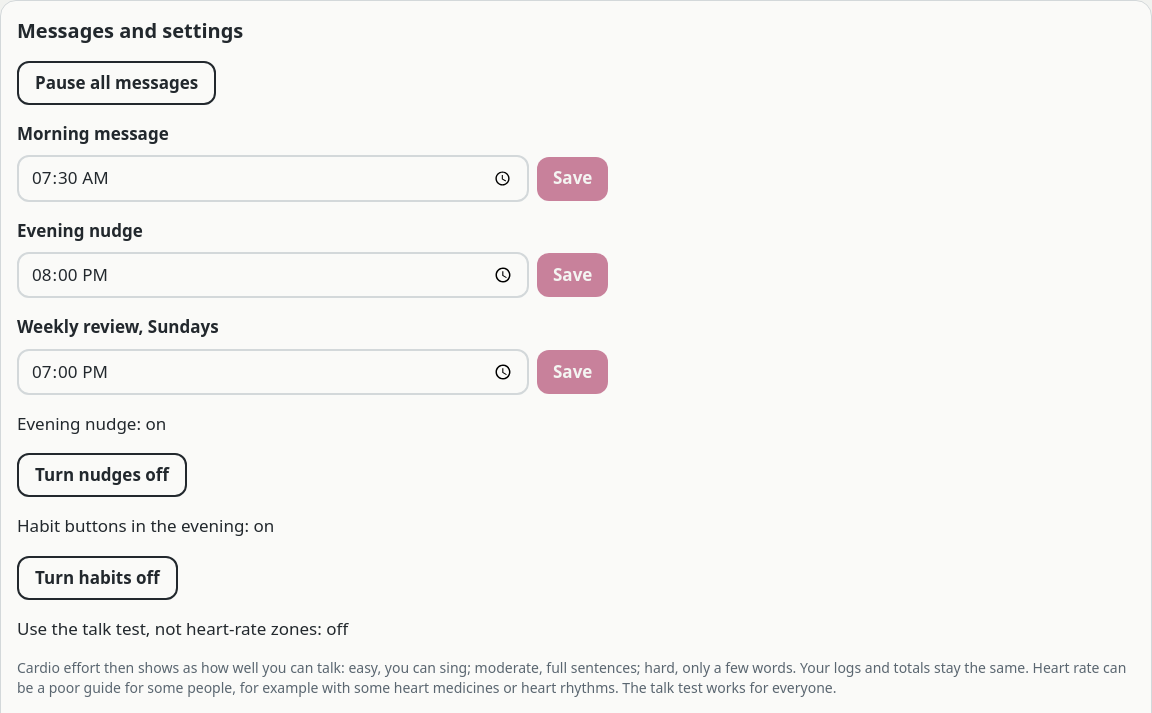
Test case: a new time is saved with its own Save, and says so next to it
Expected: the 1st button "Save" is disabled, [537, 156, 608, 200]
Replace the text in the time field labelled "Morning message" with "06:45". click: coordinates (273, 178)
box: [17, 155, 529, 202]
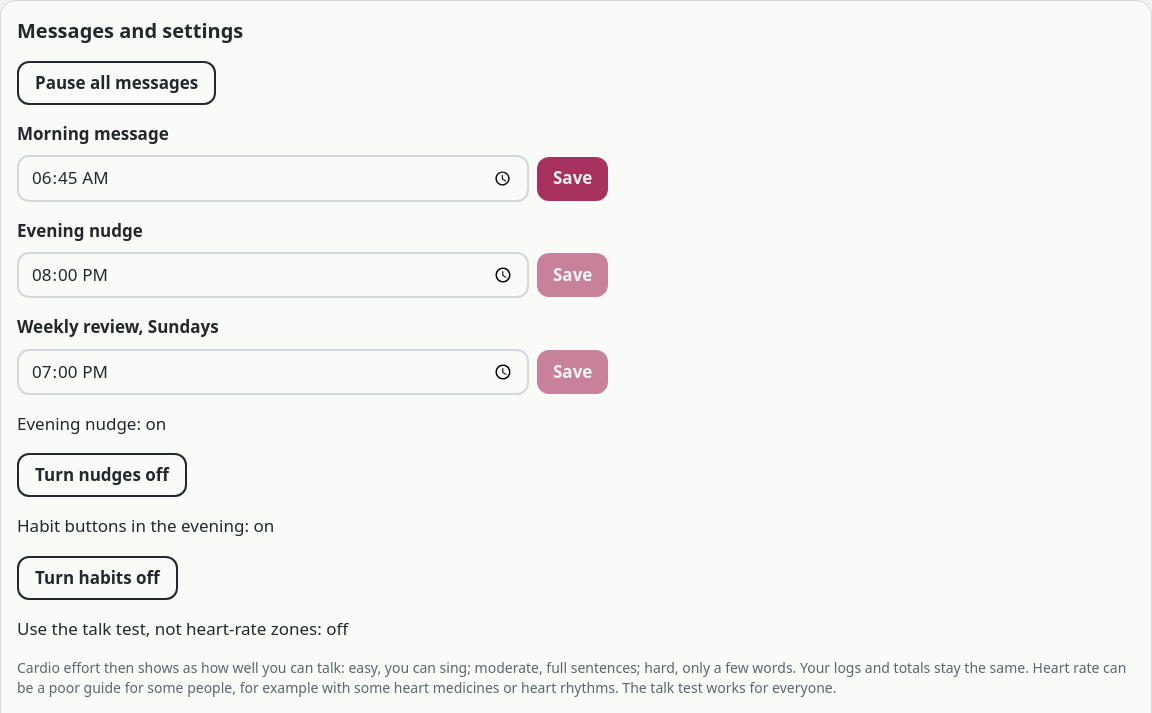
Click the 1st button "Save". click: coordinates (573, 178)
box: [537, 156, 608, 200]
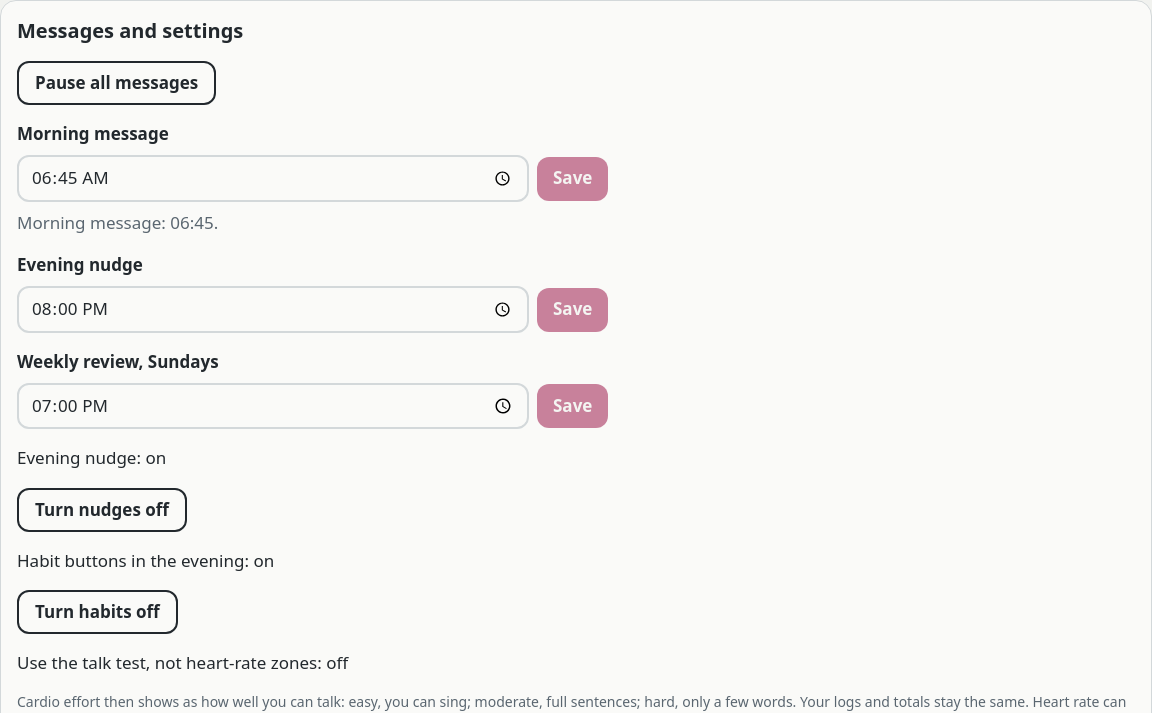
Result: the text "Morning message: 06:45." is shown at [17, 211, 218, 234]
Result: the 1st button "Save" is disabled at [537, 156, 608, 200]
